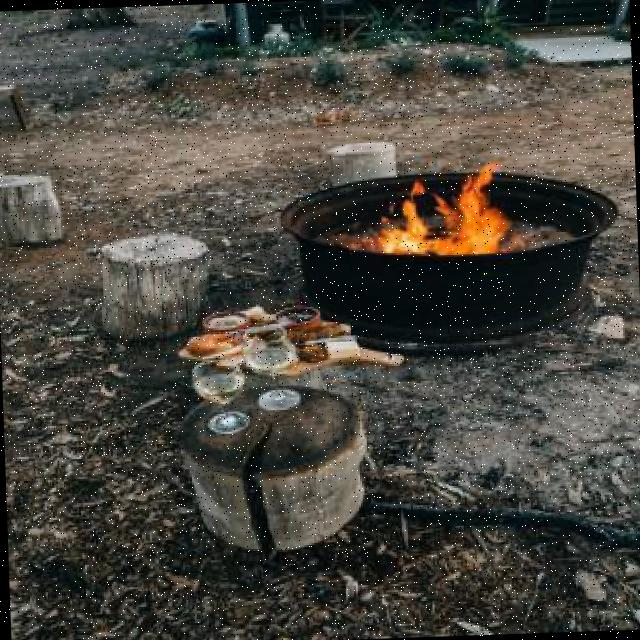fire: (344, 137, 542, 305)
